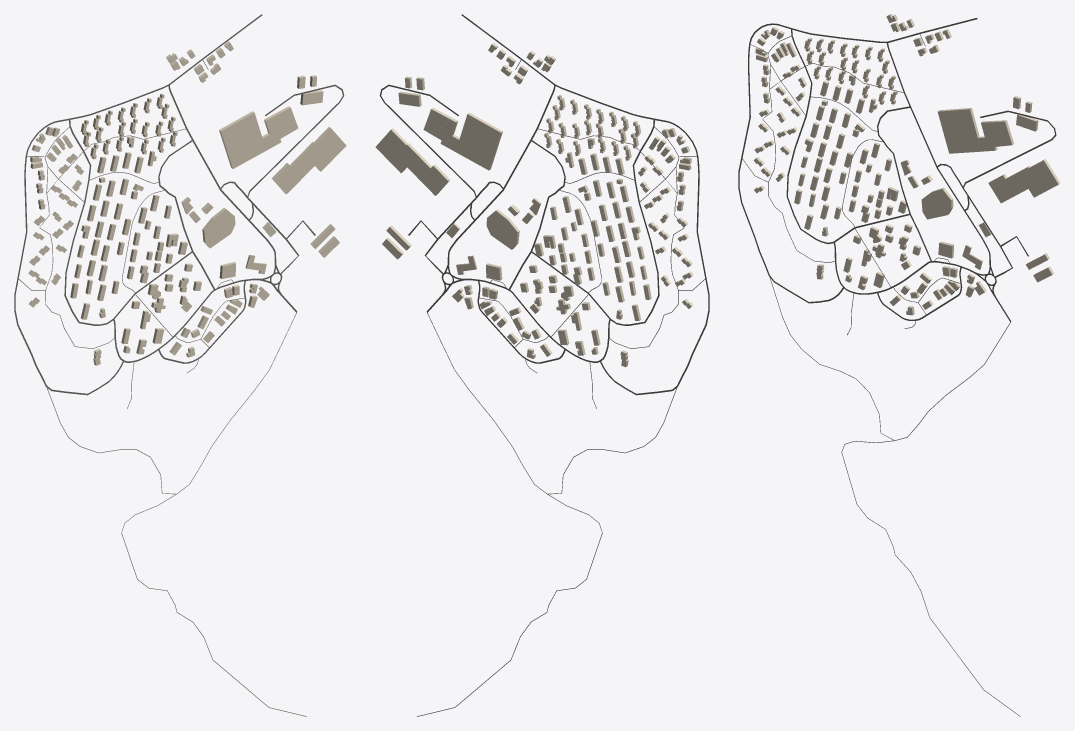
Rendered from historic-palestine-12_32_3541_3265.glb.
3 views of the same model, side by side, from view 1: azimuth 30°, elevation 25°; view 2: azimuth 150°, elevation 25°; view 3: azimuth 330°, elevation 25° (orthographic). The views are drawn at different scales.
Parts seen in each view (by area): view 1: Building_.142, Building_.140, Building_, Road .002, Road .011, Building_.156, Road .005, Road .008; view 2: Building_.142, Building_.140, Building_, Road .002, Road .011, Building_.156, Road .005, Road .008; view 3: Building_.142, Building_.140, Road .002, Building_, Road .011, Building_.156, Road .005, Road .008.
Part boxes in pixels (<box>): Building_.142: <box>271,127,346,194</box>; Building_.140: <box>219,111,266,168</box>; Building_: <box>202,208,235,248</box>; Road .002: <box>14,118,124,395</box>; Road .011: <box>64,119,192,325</box>; Building_.156: <box>264,106,298,138</box>; Road .005: <box>121,312,306,716</box>; Road .008: <box>247,84,344,274</box>; Building_.142: <box>375,128,449,195</box>; Building_.140: <box>455,112,502,170</box>; Building_: <box>486,209,519,249</box>; Road .002: <box>599,118,709,395</box>; Road .011: <box>531,120,659,325</box>; Building_.156: <box>423,108,457,140</box>; Road .005: <box>417,312,602,716</box>; Road .008: <box>379,84,476,273</box>; Building_.142: <box>988,159,1060,203</box>; Building_.140: <box>937,108,981,153</box>; Road .002: <box>738,23,843,303</box>; Building_: <box>921,187,953,219</box>; Road .011: <box>786,29,910,244</box>; Building_.156: <box>981,120,1014,146</box>; Road .005: <box>841,322,1020,716</box>; Road .008: <box>963,110,1056,277</box>.
Size of the model in its own units: 727 by 1492 by 11.2.
